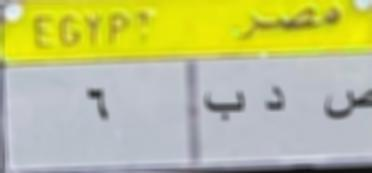6: (82, 83, 118, 126)
baa: (201, 84, 246, 125)
daal: (262, 82, 291, 116)
saad: (317, 84, 372, 120)
